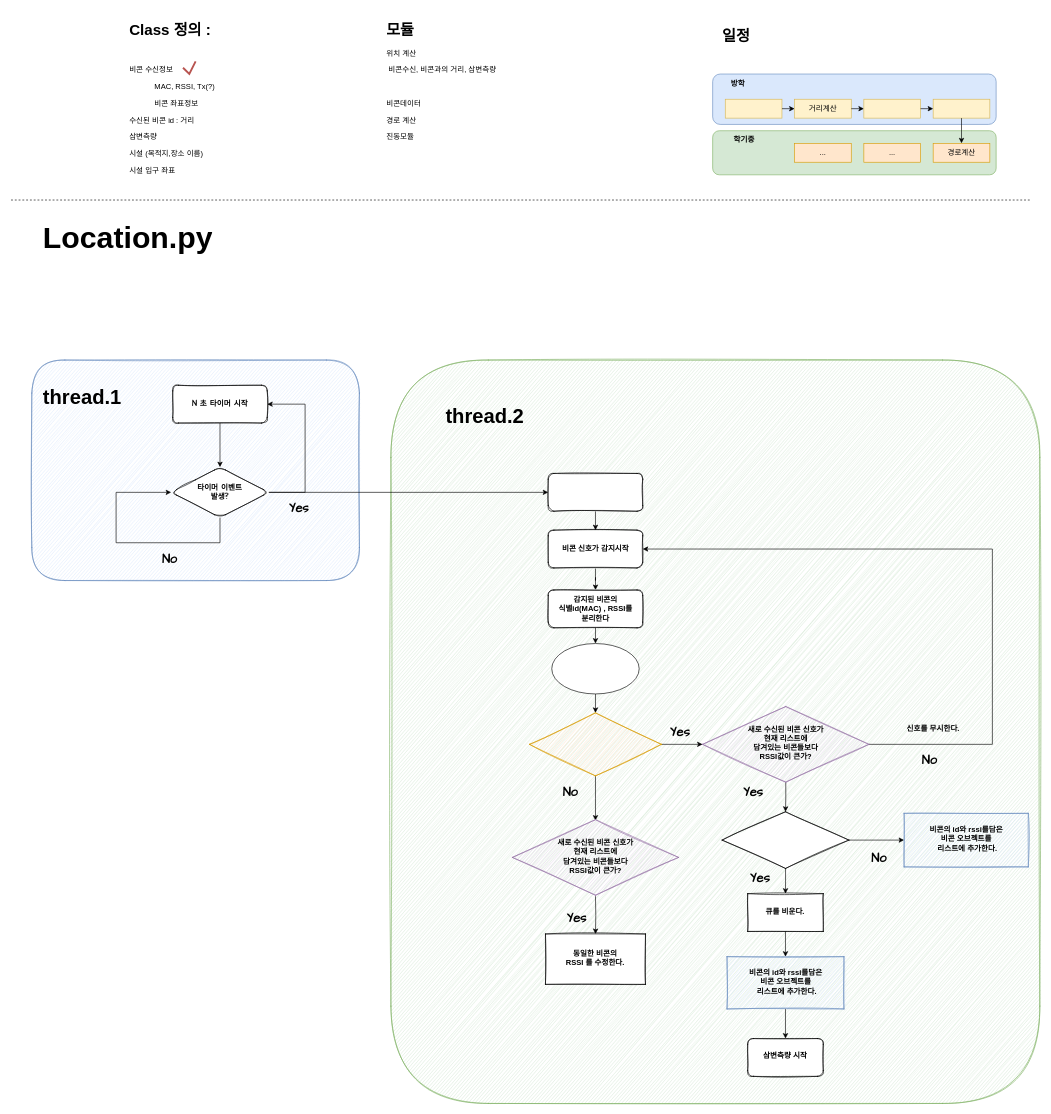
Image size: 1051x1114. Some labels were removed from this diagram. Each missing label, with the centre of its shape:
3가지: pixel 892 108
Top3 리스트를 초기화한다. [0, 0, 0]: pixel 595 492
배열 안의 값이 3개 이상인가?: pixel 785 839
새로 수신된 신호가 현재 리스트에 이미 담겨있는 비콘인가?: pixel 595 744
수신: pixel 753 108
위치계산: pixel 961 108
현재 리스트에 담겨있는 id 들을 찾아낸다: pixel 595 668
